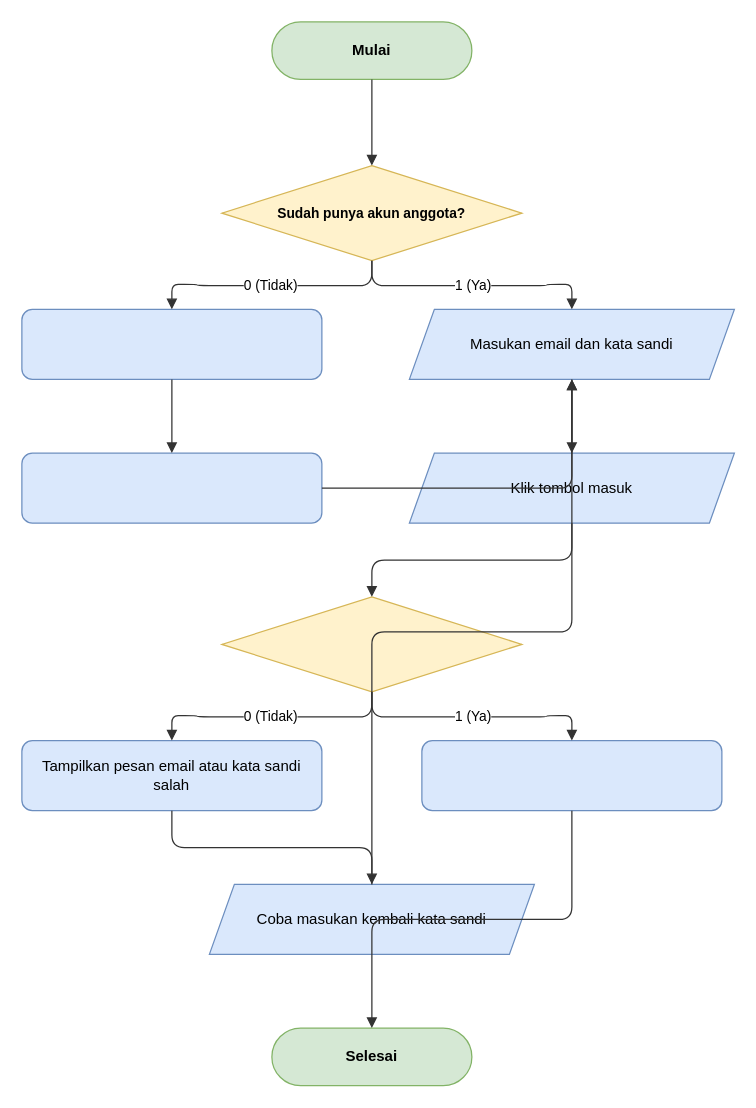
This 756x1108 diagram has some shape labels left out. Here are the shapes that lost their labels. From the top down, the centre of each, then its label:
the point at 171,343: Minta Admin mendaftarkan akun
the point at 171,487: Kembali ke halaman masuk
the point at 371,644: Apakah email dan kata sandi sesuai?
the point at 571,775: Diarahkan ke halaman dashboard
